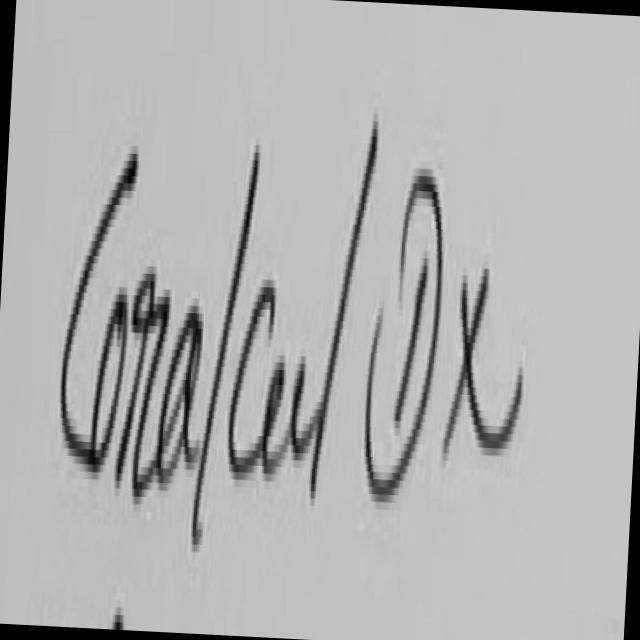C: (62, 154, 137, 461)
D: (368, 169, 444, 499), (397, 259, 429, 417)
a: (116, 274, 170, 493), (156, 306, 202, 480), (262, 362, 322, 474)
c: (231, 280, 273, 472)
l: (193, 145, 259, 541), (312, 122, 378, 495)
o: (91, 294, 126, 461)
x: (445, 273, 524, 450)
